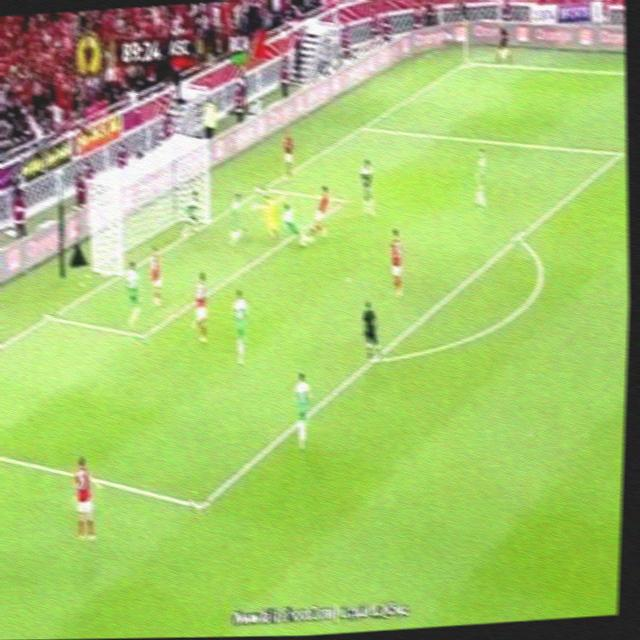bigarea_bottom_inner: (188, 490, 211, 522)
bigarea_top_inner: (613, 147, 625, 162)
bigarea_top_outter: (354, 120, 367, 134)
bottom_arc_area_intersection: (366, 351, 379, 366)
corner: (460, 57, 474, 67)
smallarea_bottom_inner: (133, 323, 150, 346)
smallarea_bottom_outter: (41, 305, 58, 327)
smallarea_top_inner: (336, 194, 349, 207)
smallarea_top_outter: (253, 182, 269, 195)
top_arc_area_intersection: (511, 230, 524, 245)
